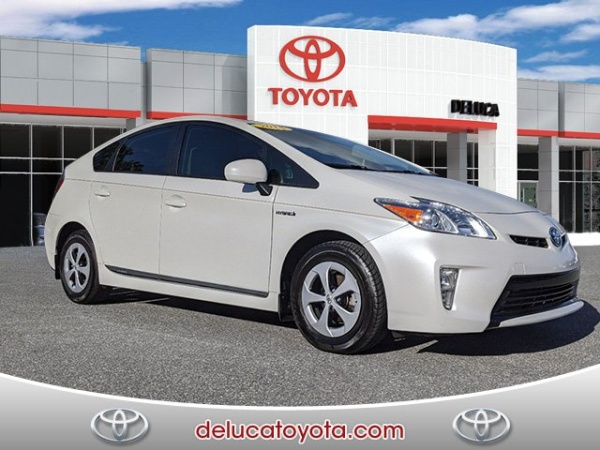Toyota Prius: (40, 114, 586, 357)
